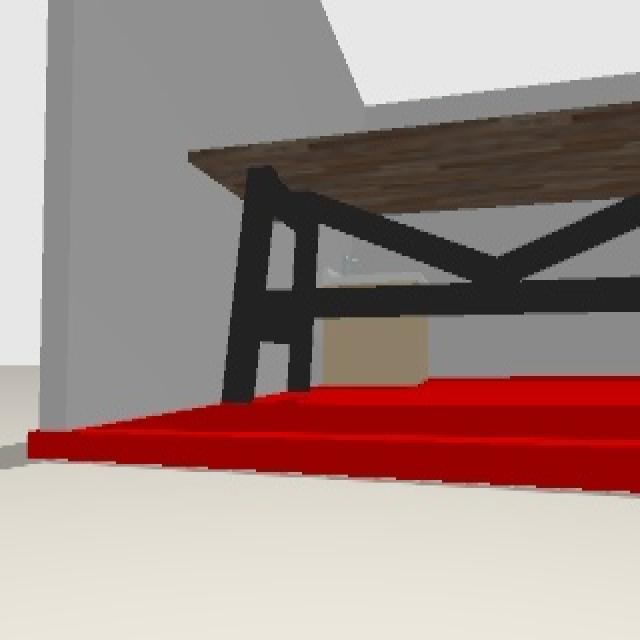dining: (193, 106, 640, 405)
